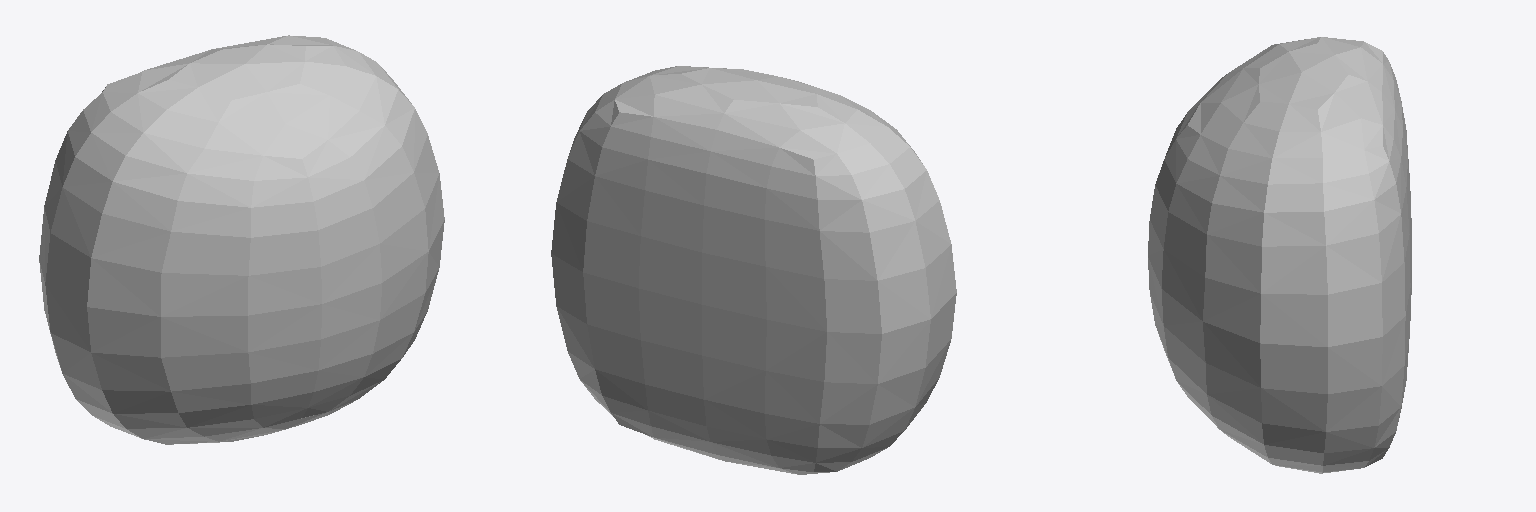
The model's file is glow2a_sm.obj.
3 views of the same model, side by side, from view 1: azimuth 30°, elevation 25°; view 2: azimuth 150°, elevation 25°; view 3: azimuth 270°, elevation 25° (orthographic).
Parts seen in each view (by area): view 1: Part1; view 2: Part1; view 3: Part1.
Part boxes in pixels (x1,y1,x2,y2): Part1: (39,35,444,444); Part1: (551,66,956,474); Part1: (1148,37,1411,473).
Size of the model in its own units: 157 by 147 by 95.94.